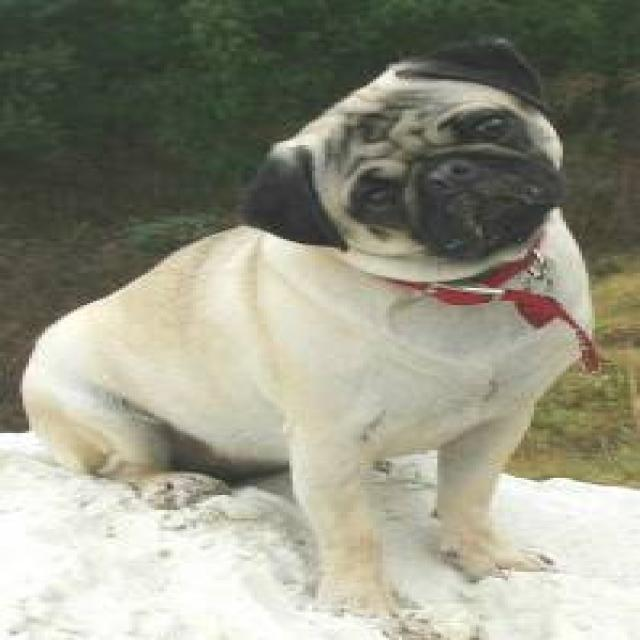dog-pug: (6, 28, 614, 614)
